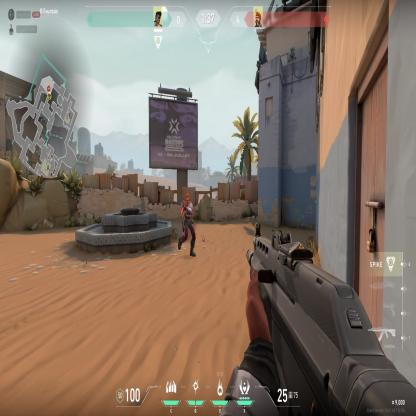enemy: (178, 192, 197, 258)
